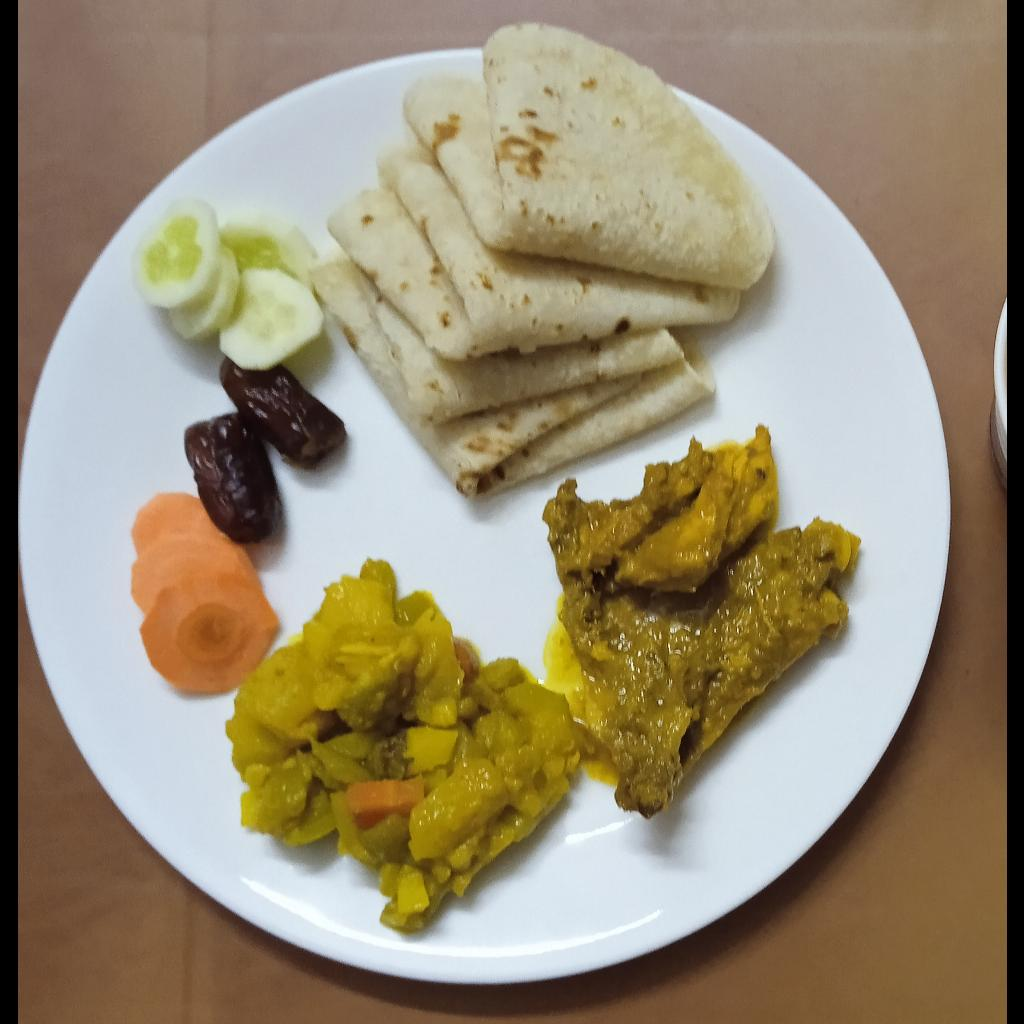carrot: (129, 492, 280, 695)
chicken: (541, 426, 860, 820)
cucumber: (130, 196, 324, 371)
dates: (183, 357, 346, 544)
ruti: (308, 23, 775, 502)
vegetable: (224, 558, 601, 931)
